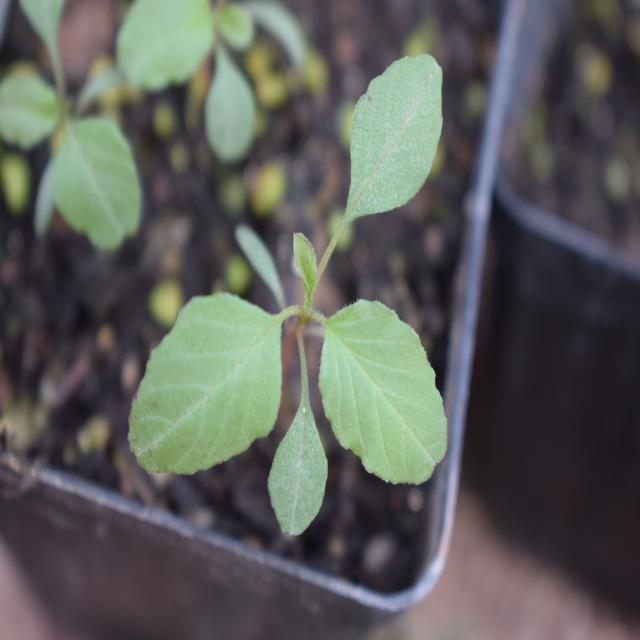pigweed: (106, 52, 453, 520)
